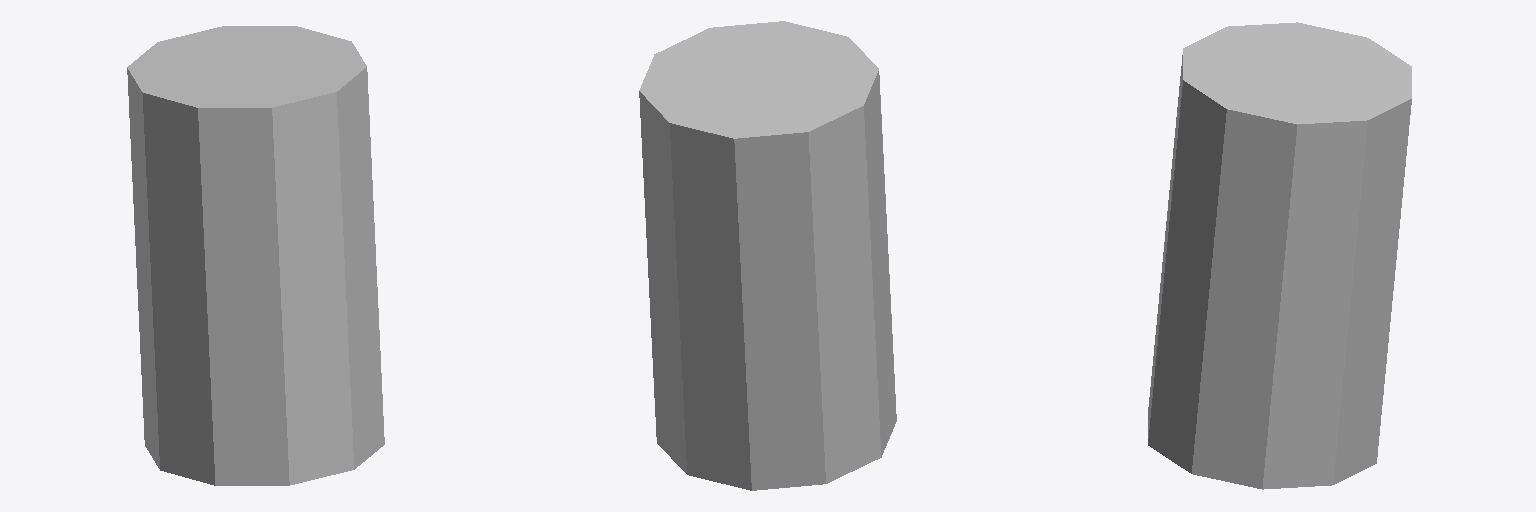
File: player_leg_right_1.obj
3 renders of one model, left to right at view 1: azimuth 30°, elevation 25°; view 2: azimuth 150°, elevation 25°; view 3: azimuth 270°, elevation 25°, orthographic.
Visible parts, largest first — view 1: player:leg_right_1; view 2: player:leg_right_1; view 3: player:leg_right_1.
Part boxes in pixels (left/top/right/bottom): player:leg_right_1: left=127, top=26, right=384, bottom=485; player:leg_right_1: left=639, top=21, right=896, bottom=490; player:leg_right_1: left=1148, top=22, right=1411, bottom=489.
Bounding box in the file's own units: 0.2 × 0.3499 × 0.2186.